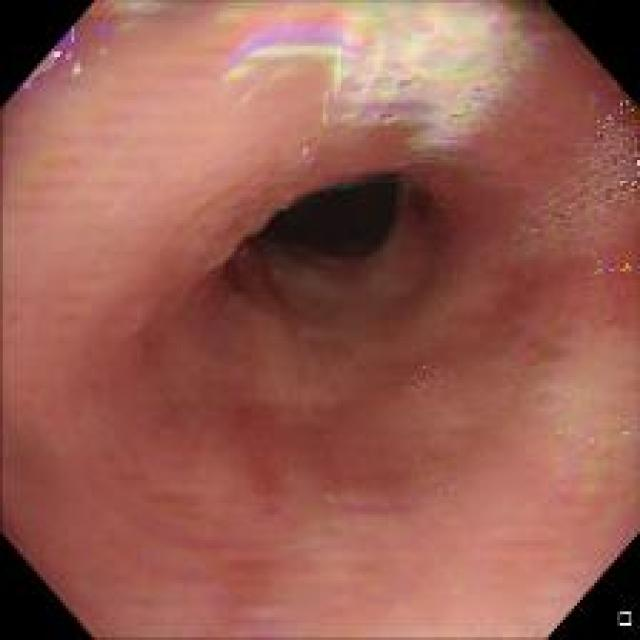bubbles: (511, 99, 632, 264), (400, 355, 454, 400), (436, 469, 464, 499), (416, 455, 439, 486), (579, 424, 605, 451), (540, 419, 568, 444), (375, 108, 402, 131), (394, 75, 421, 95), (498, 370, 518, 396)
color misalignment: (321, 6, 526, 135), (230, 5, 421, 66), (26, 19, 111, 94), (318, 166, 438, 199), (595, 99, 631, 140), (615, 140, 638, 202), (586, 260, 632, 278), (9, 71, 36, 94), (266, 195, 298, 214)
contrast: (228, 152, 418, 291)
